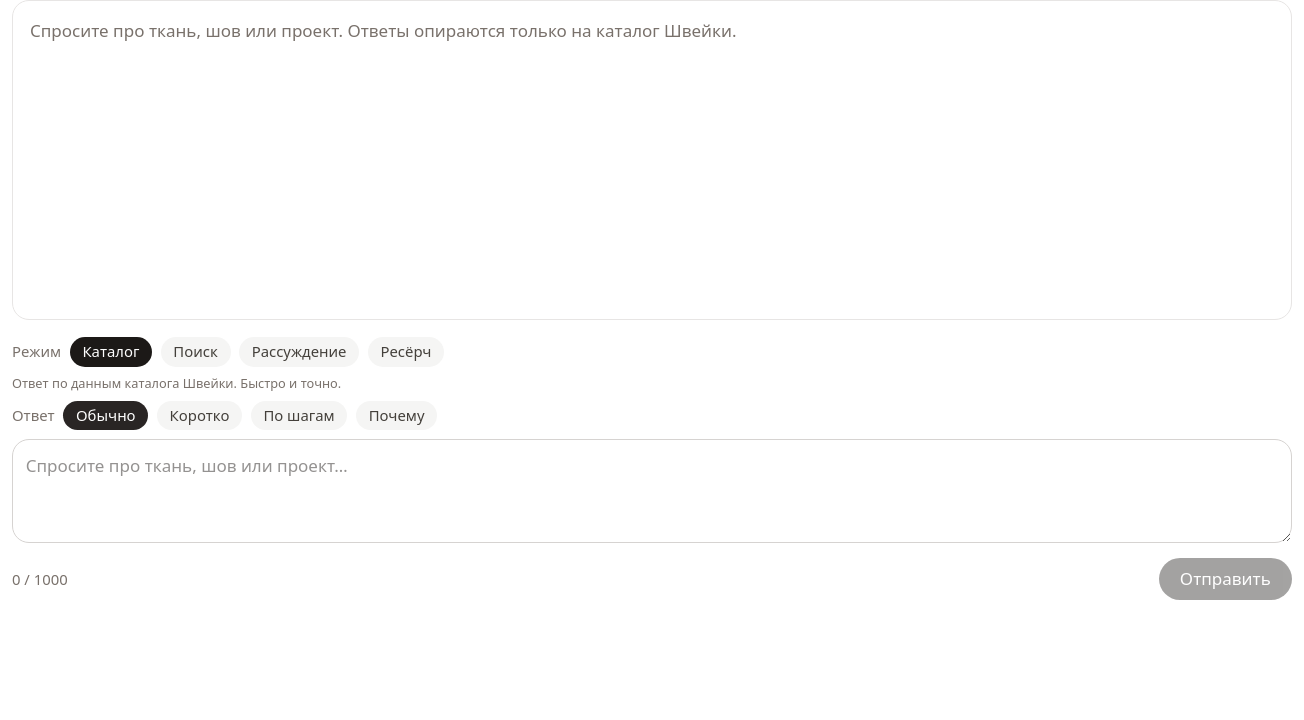
ChatWidget › при пустом заголовке не делает ссылок вовсе
Type "Что взять?" into the text box at (652, 491), box [12,439,1292,543]
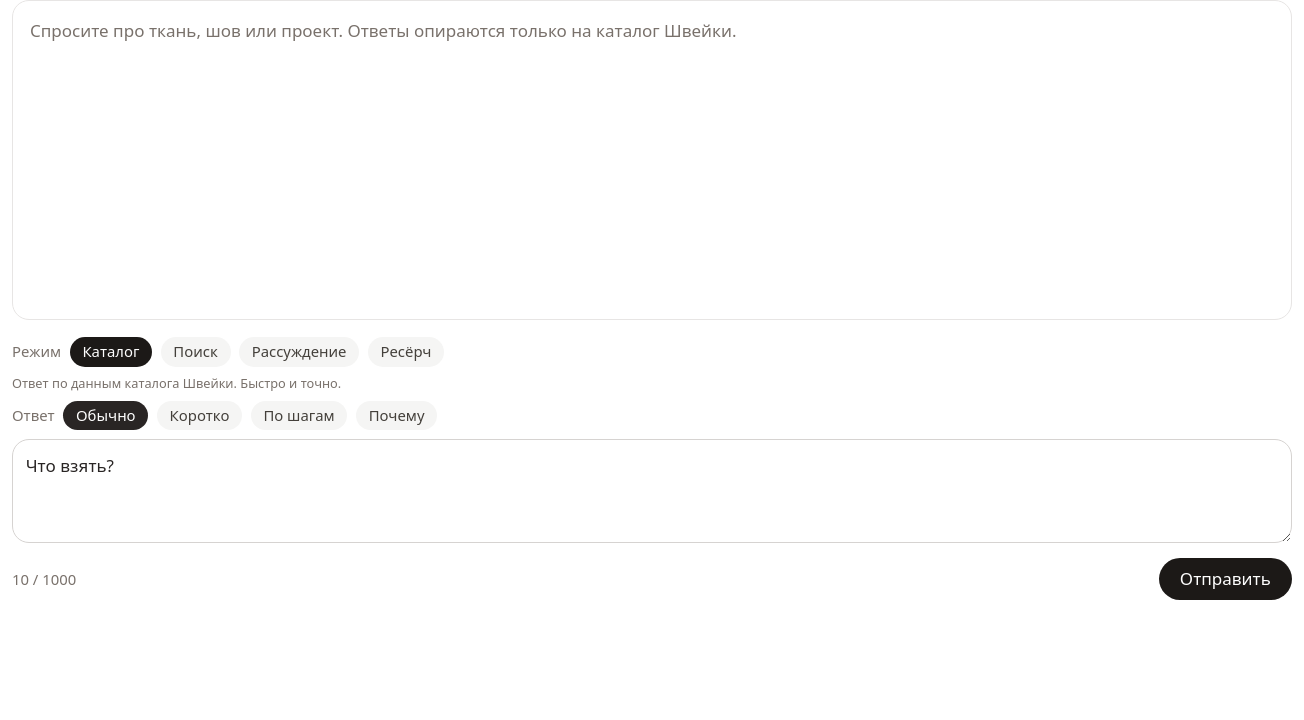
Click the button "Отправить" at (1225, 579), box [1159,558,1292,600]
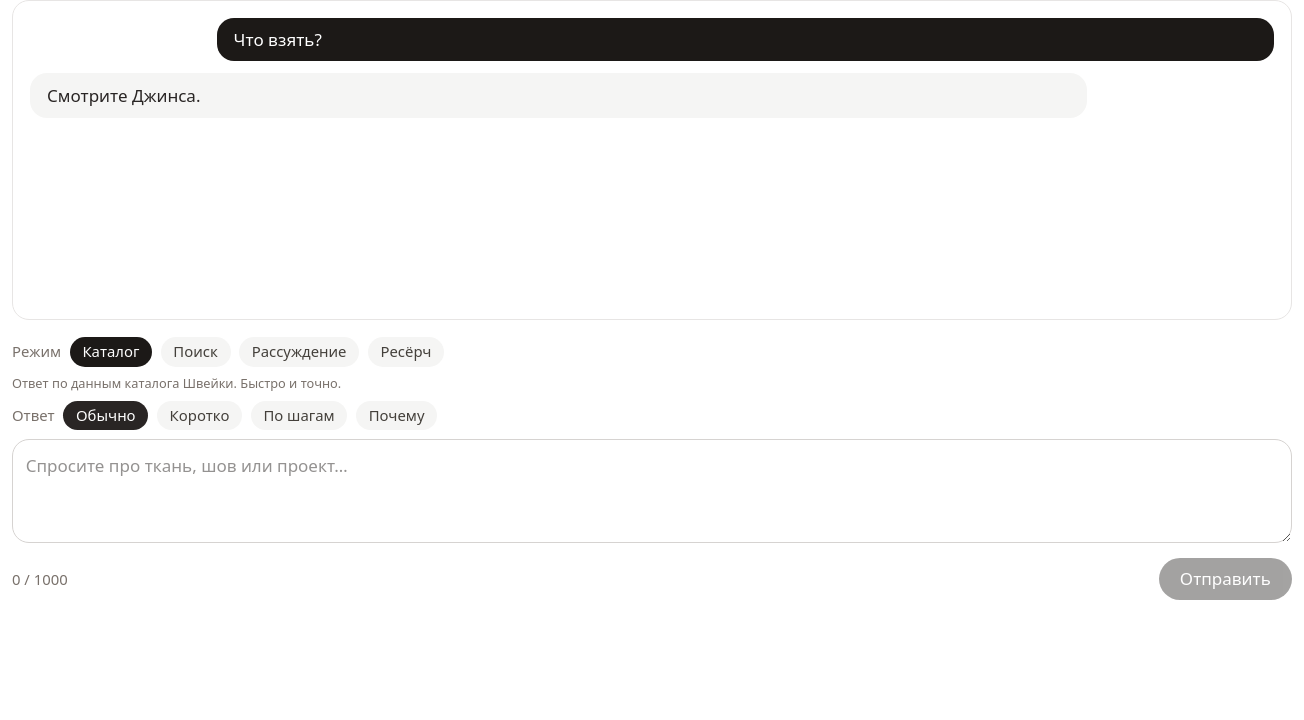
expect the text "Смотрите Джинса." is shown: met, box [47,84,200,107]
